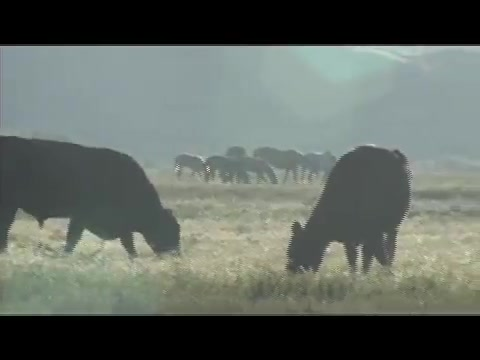cow: (1, 135, 182, 260), (287, 145, 415, 277), (257, 146, 305, 183), (175, 152, 213, 183), (237, 156, 279, 184), (303, 152, 339, 183), (204, 155, 239, 183)
